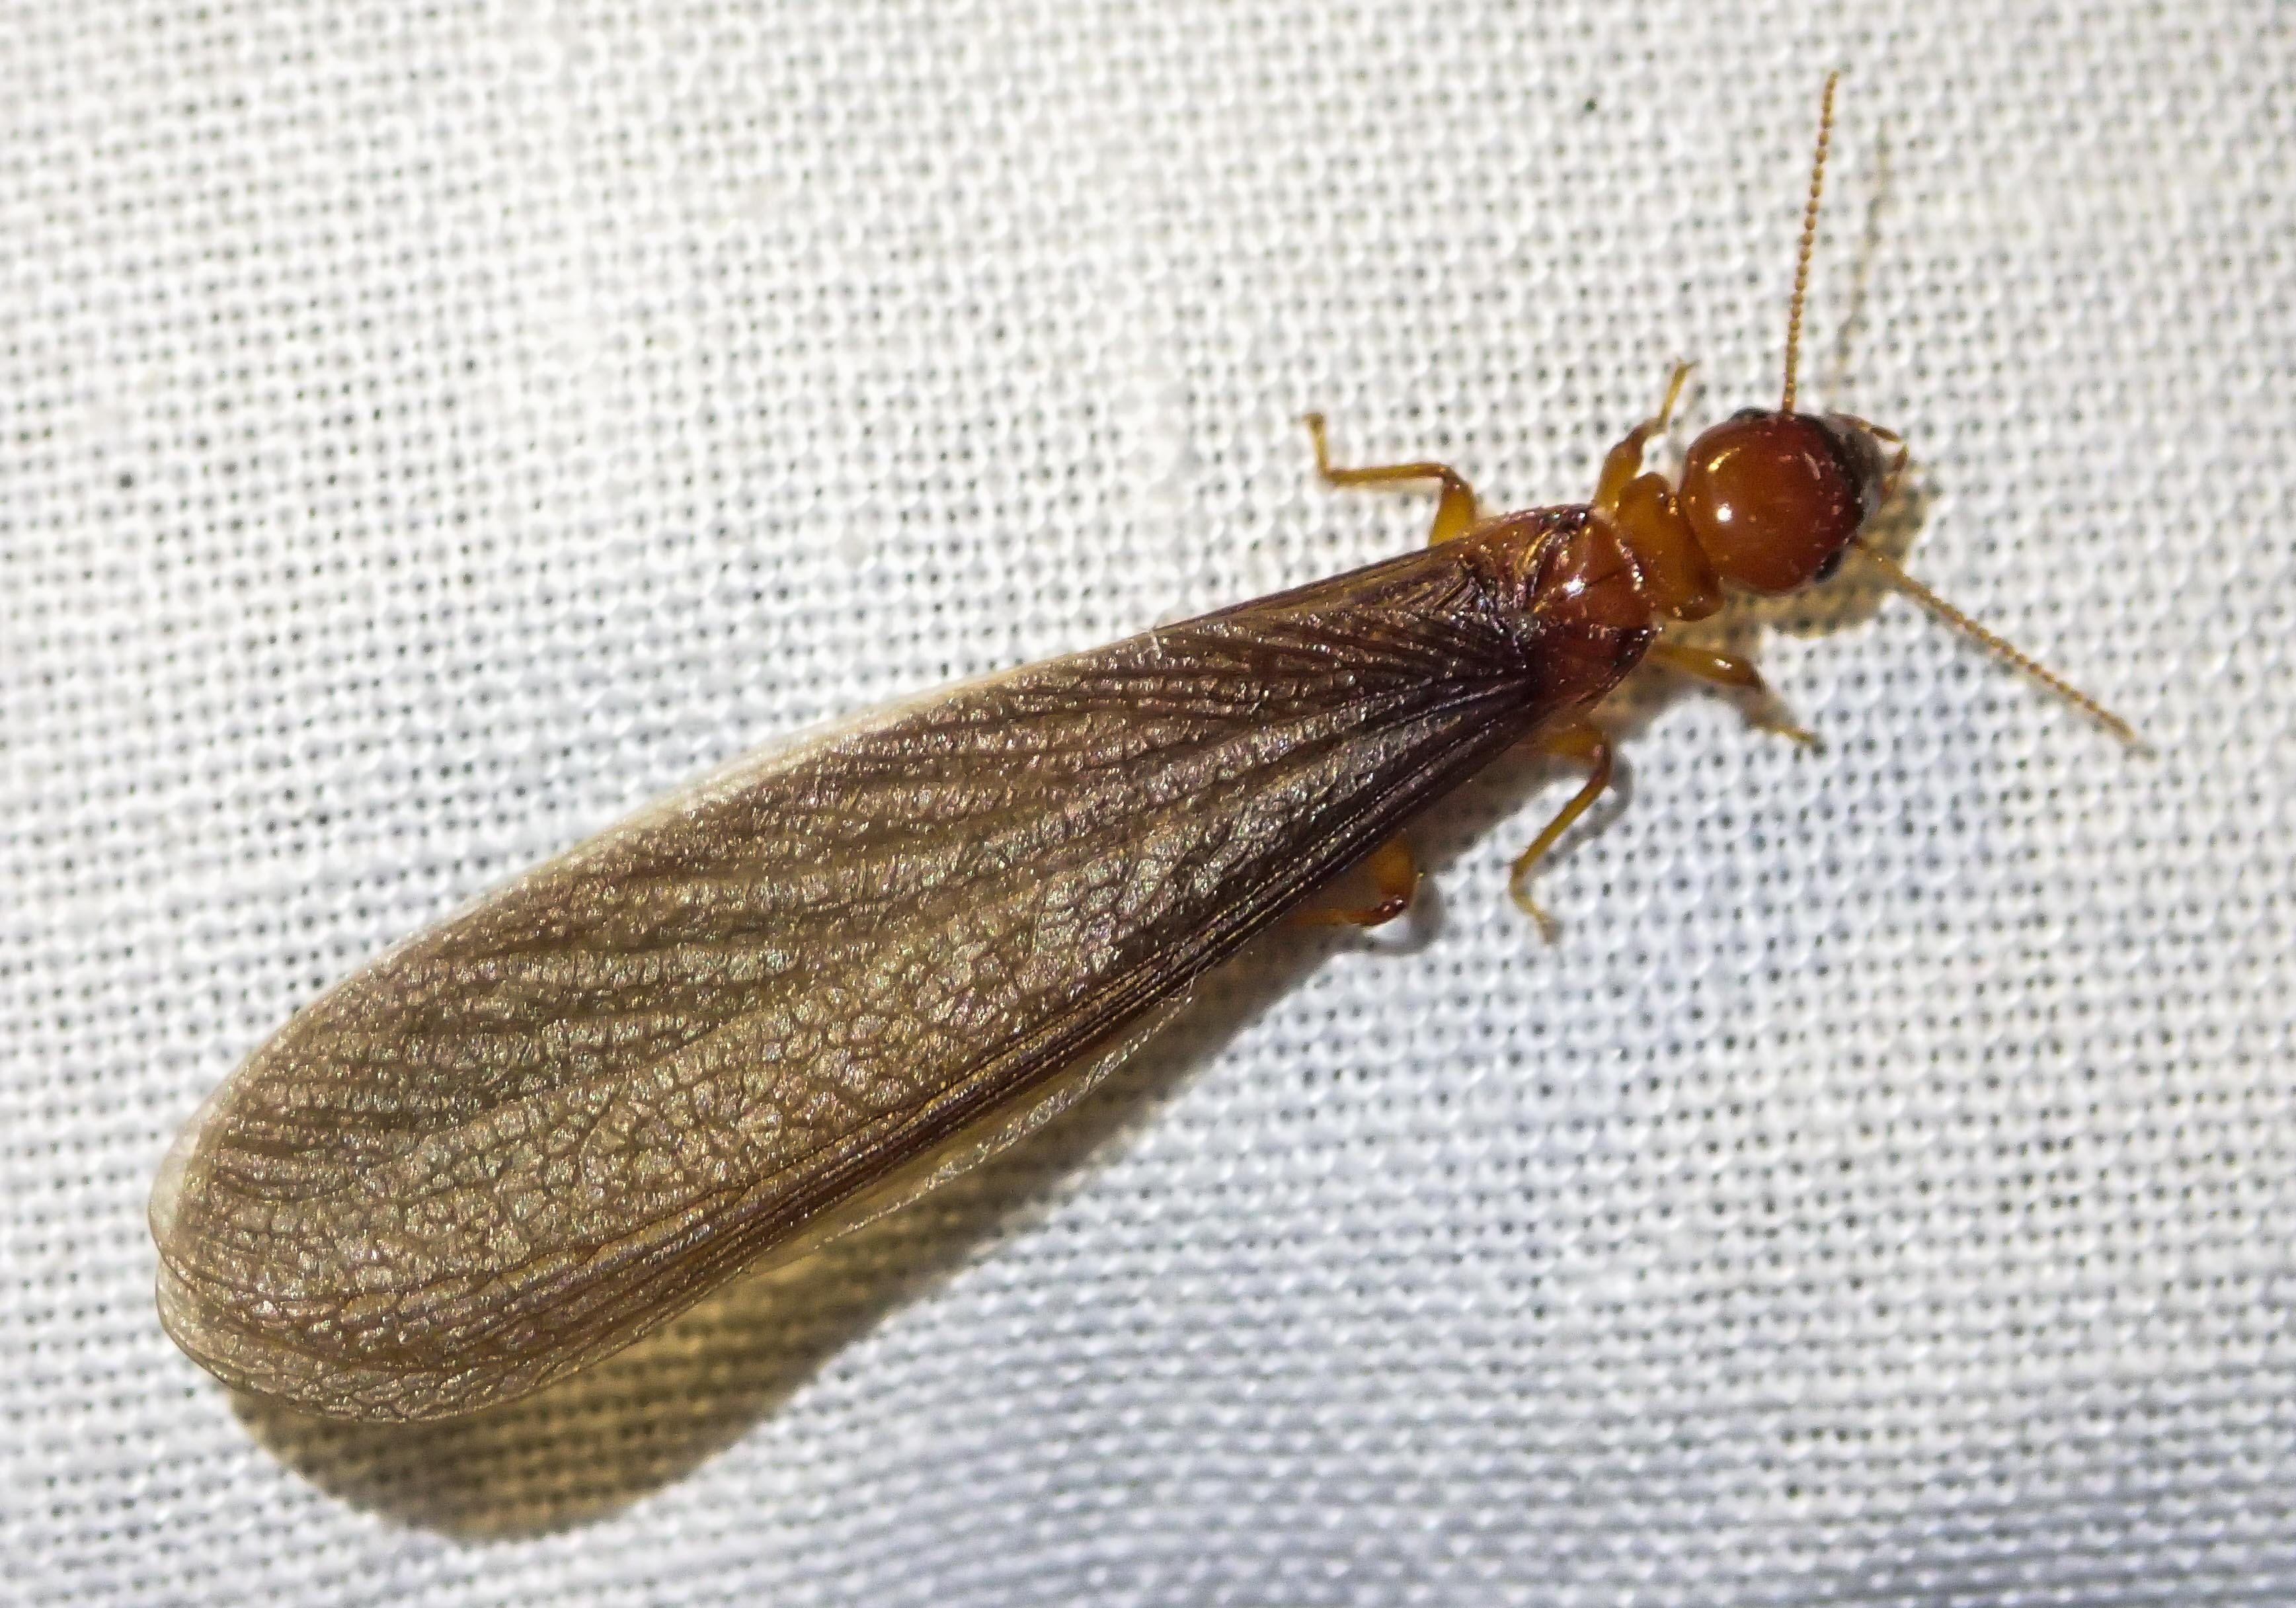flying termite: (99, 68, 2200, 1526)
